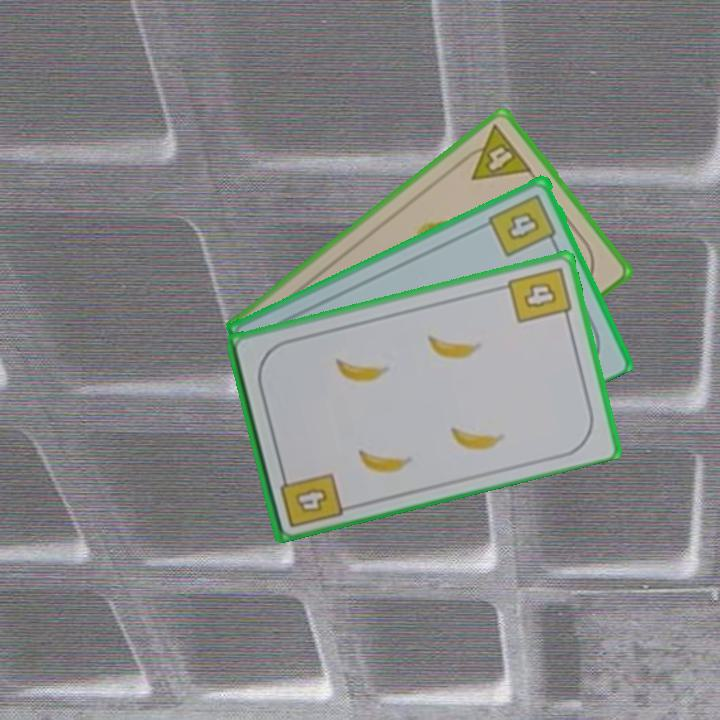4b: (485, 189, 560, 259), (276, 465, 345, 530), (504, 263, 574, 326)
4p: (455, 121, 535, 183)
